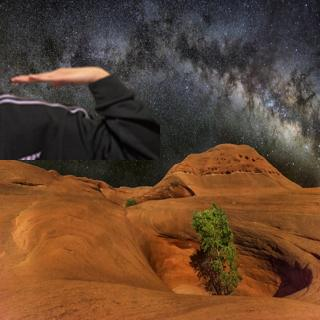Wait: (5, 60, 113, 91)
